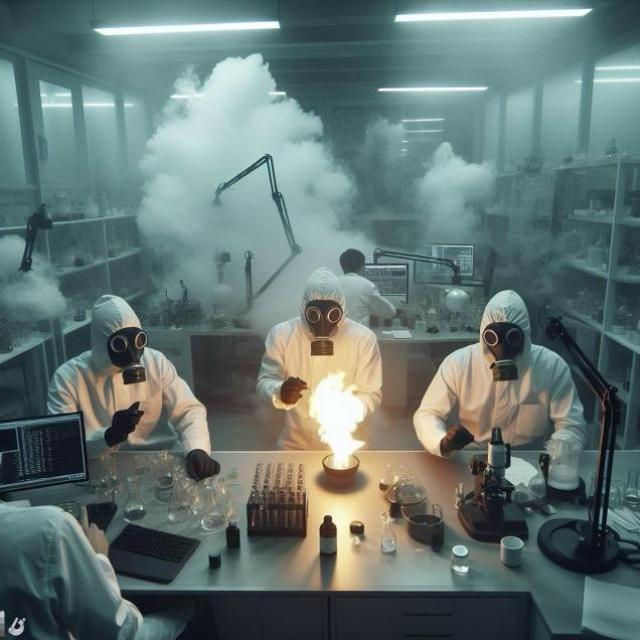fire: (135, 49, 350, 315), (414, 137, 496, 243), (0, 231, 71, 325)
smoke: (304, 362, 372, 472)
